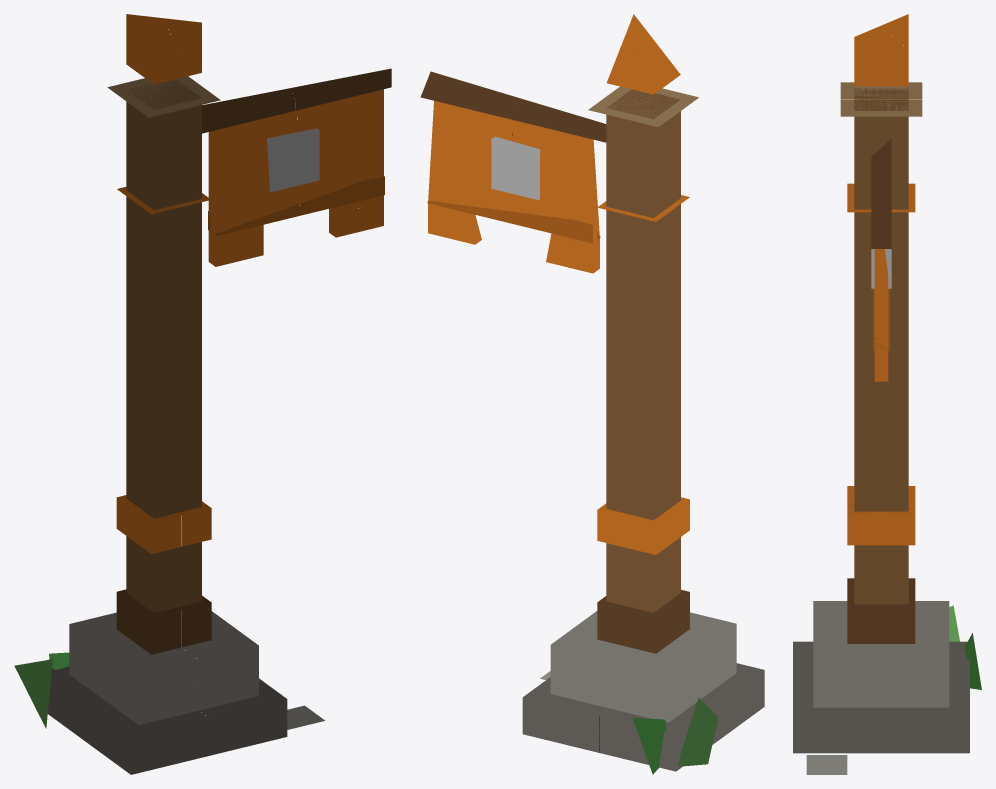
The model's file is territory-marker-bumblebee_lod1.glb.
The picture shows the model from 3 angles, left to right: view 1: azimuth 30°, elevation 25°; view 2: azimuth 150°, elevation 25°; view 3: azimuth 270°, elevation 25°; orthographic projection. The views are drawn at different scales.
Visible parts, largest first — view 1: marker-post, banner; view 2: marker-post, banner; view 3: marker-post, banner.
Part boxes in pixels (box(x1,y1,x2,y2)): marker-post: box(14, 14, 324, 774); banner: box(202, 68, 391, 266); marker-post: box(522, 14, 764, 774); banner: box(420, 71, 606, 273); marker-post: box(793, 14, 981, 774); banner: box(871, 139, 891, 381).
Size of the model in its own units: 0.5581 by 1.12 by 0.2778.
